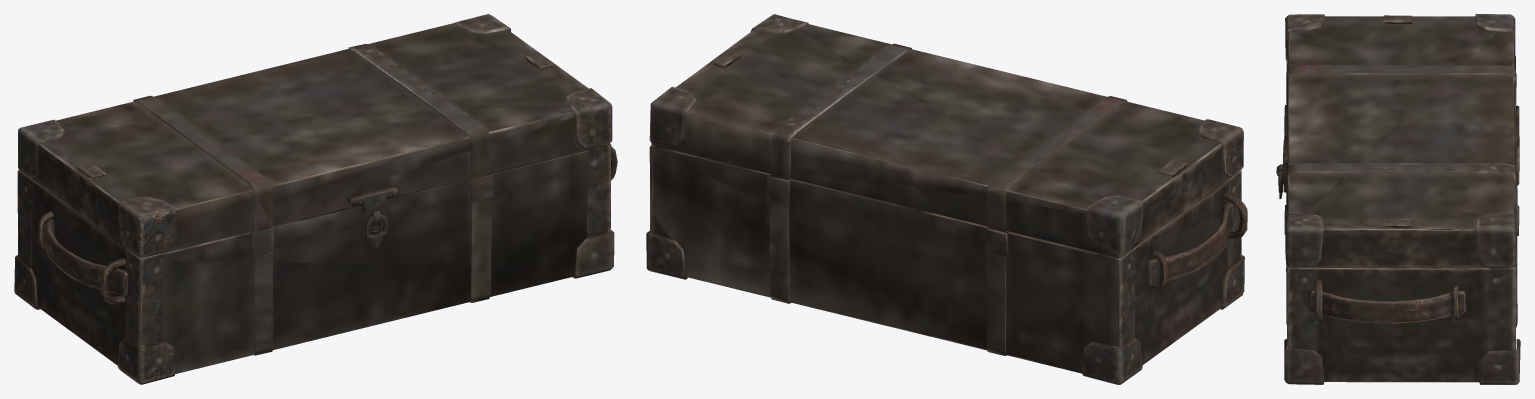
File: d_trunk_large_A.glb
3 renders of one model, left to right at view 1: azimuth 30°, elevation 25°; view 2: azimuth 150°, elevation 25°; view 3: azimuth 270°, elevation 25°, orthographic. The views are drawn at different scales.
Parts seen in each view (by area): view 1: d_trunk_large_A; view 2: d_trunk_large_A; view 3: d_trunk_large_A.
Boxes of the visible parts, x1,y1,x2,y2 form: d_trunk_large_A: (14,14,617,384); d_trunk_large_A: (646,14,1247,384); d_trunk_large_A: (1276,14,1520,384).
Size of the model in its own units: 1.95 by 0.6221 by 0.8627.
1 material, 1 textured.
